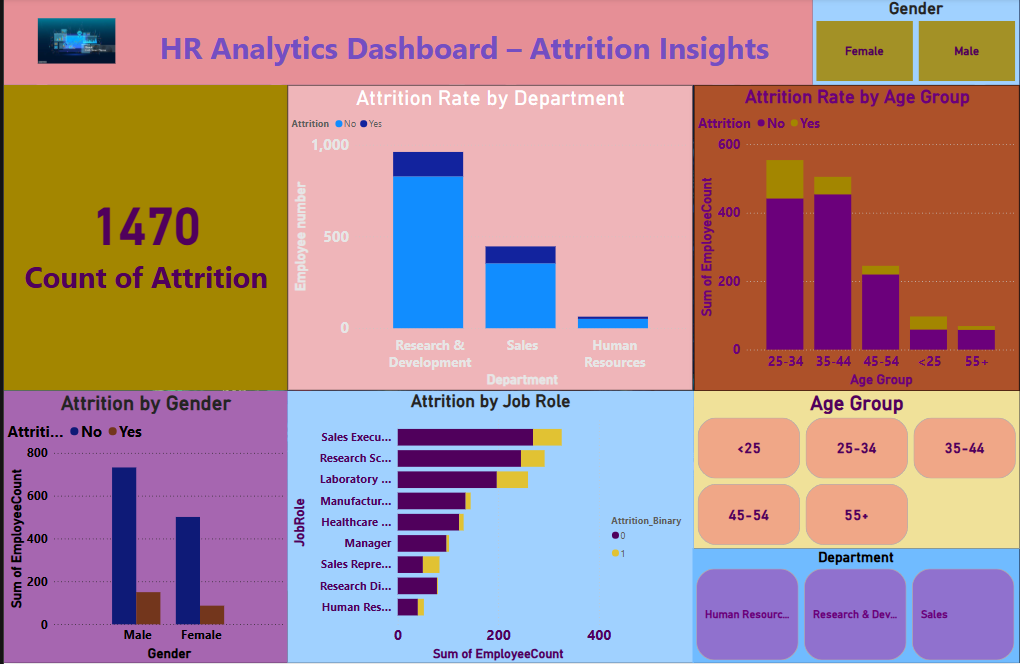

Layout of this report page (visuals, bound fields, positions):
{"tool":"powerbi","page":{"name":"Page 1","canvas":[1450,950],"ordinal":0},"visuals":[{"type":"card","fields":{"Values":["CountNonNull(HR_Attrition_Data.Attrition)"]},"box":[0,124,405.1,436.1],"z":0},{"type":"columnChart","title":"Attrition Rate by Department","fields":{"Category":["HR_Attrition_Data.Department"],"Series":["HR_Attrition_Data.Attrition"],"Y":["CountNonNull(HR_Attrition_Data.EmployeeNumber)"]},"box":[405.1,124,578.7,436.1],"z":1000},{"type":"columnChart","title":" Attrition Rate by Age Group","fields":{"Category":["HR_Attrition_Data.Age Group"],"Series":["HR_Attrition_Data.Attrition"],"Y":["Sum(HR_Attrition_Data.EmployeeCount)"]},"box":[984.8,124.2,464.5,436.7],"z":2000},{"type":"clusteredColumnChart","title":"Attrition by Gender","fields":{"Category":["HR_Attrition_Data.Gender"],"Series":["HR_Attrition_Data.Attrition"],"Y":["Sum(HR_Attrition_Data.EmployeeCount)"]},"box":[0,560.9,404.6,389.6],"z":3000},{"type":"barChart","title":"Attrition by Job Role","fields":{"Category":["HR_Attrition_Data.JobRole"],"Series":["HR_Attrition_Data.Attrition_Binary"],"Y":["Sum(HR_Attrition_Data.EmployeeCount)"]},"box":[404.6,560.9,580.1,389.6],"z":4000},{"type":"advancedSlicerVisual","fields":{"Values":["HR_Attrition_Data.Gender"]},"box":[1153.9,0,295.4,124.2],"z":5000},{"type":"advancedSlicerVisual","fields":{"Values":["HR_Attrition_Data.Department"]},"box":[982.6,785.7,466.7,164.8],"z":6000},{"type":"advancedSlicerVisual","fields":{"Values":["HR_Attrition_Data.Age Group"]},"box":[984.8,560.9,464.5,224.8],"z":7000},{"type":"textbox","box":[0,0,1153.9,124.2],"z":8000},{"type":"image","box":[4.3,23.5,199.1,74.9],"z":9000}]}

Visuals, with their boxes in screenshot pixels (x1, y1, x2, y2), scaled from the page's 1450x950 canvas onto the 1020x664 screenshot:
card - CountNonNull(HR_Attrition_Data.Attrition): [x1=0, y1=87, x2=285, y2=391]
"Attrition Rate by Department" columnChart: [x1=285, y1=87, x2=692, y2=391]
" Attrition Rate by Age Group" columnChart: [x1=693, y1=87, x2=1019, y2=392]
"Attrition by Gender" clusteredColumnChart: [x1=0, y1=392, x2=285, y2=663]
"Attrition by Job Role" barChart: [x1=285, y1=392, x2=693, y2=663]
advancedSlicerVisual - HR_Attrition_Data.Gender: [x1=812, y1=0, x2=1019, y2=87]
advancedSlicerVisual - HR_Attrition_Data.Department: [x1=691, y1=549, x2=1019, y2=663]
advancedSlicerVisual - HR_Attrition_Data.Age Group: [x1=693, y1=392, x2=1019, y2=549]
textbox: [x1=0, y1=0, x2=812, y2=87]
image: [x1=3, y1=16, x2=143, y2=69]
